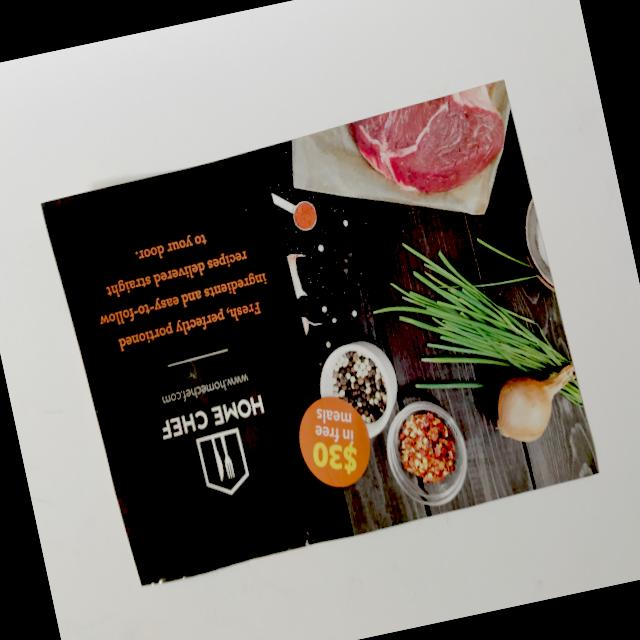Paper: (12, 36, 624, 614)
